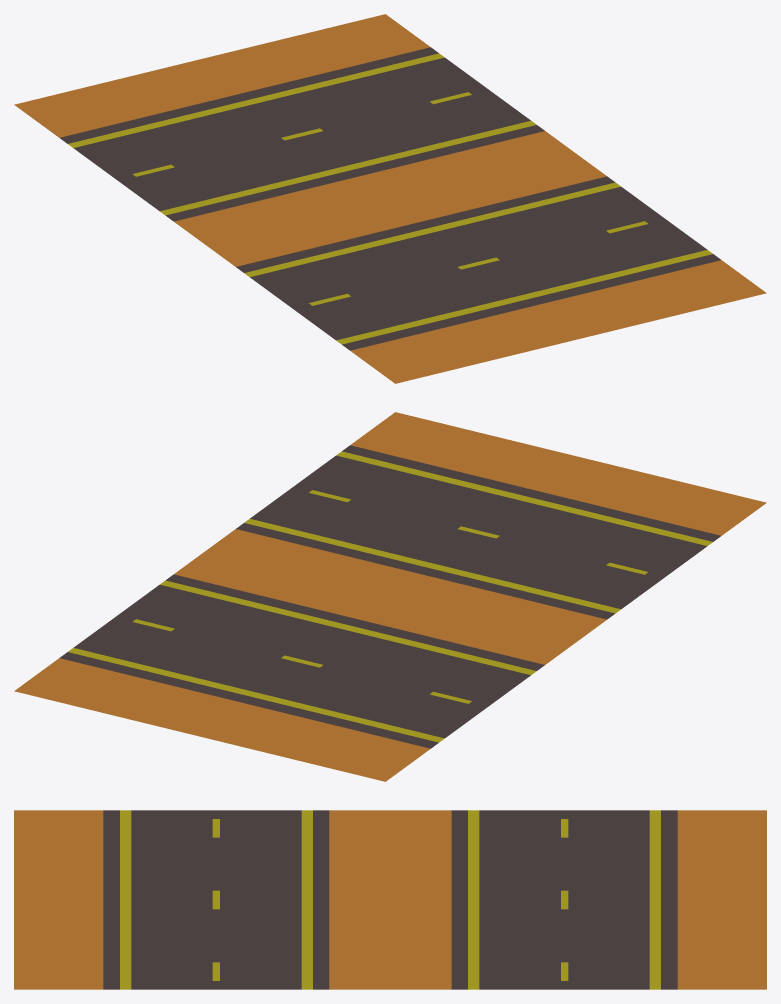
The model's file is SM_DesertRoad.fbx.
3 renders of one model, top to bottom at view 1: azimuth 30°, elevation 25°; view 2: azimuth 150°, elevation 25°; view 3: azimuth 270°, elevation 25°, orthographic.
Visible parts, largest first — view 1: Plane; view 2: Plane; view 3: Plane.
Part boxes in pixels (left/top/right/bottom): Plane: left=14, top=14, right=766, bottom=383; Plane: left=14, top=412, right=766, bottom=781; Plane: left=14, top=810, right=766, bottom=989.
Size of the model in its own units: 900 by 0.000261 by 1600.
